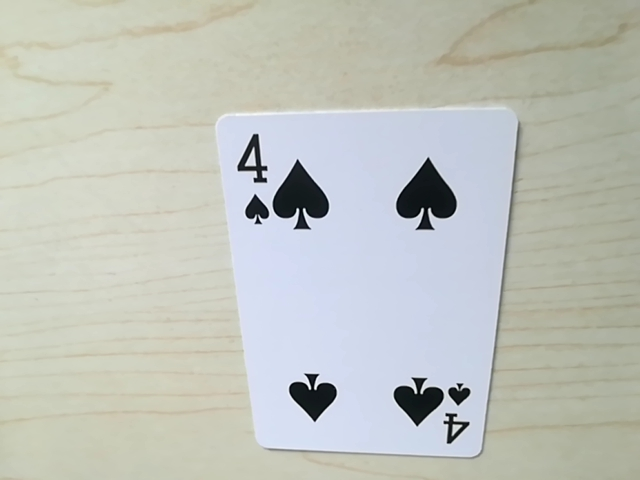ht 4: (229, 126, 284, 231), (433, 381, 472, 451)
